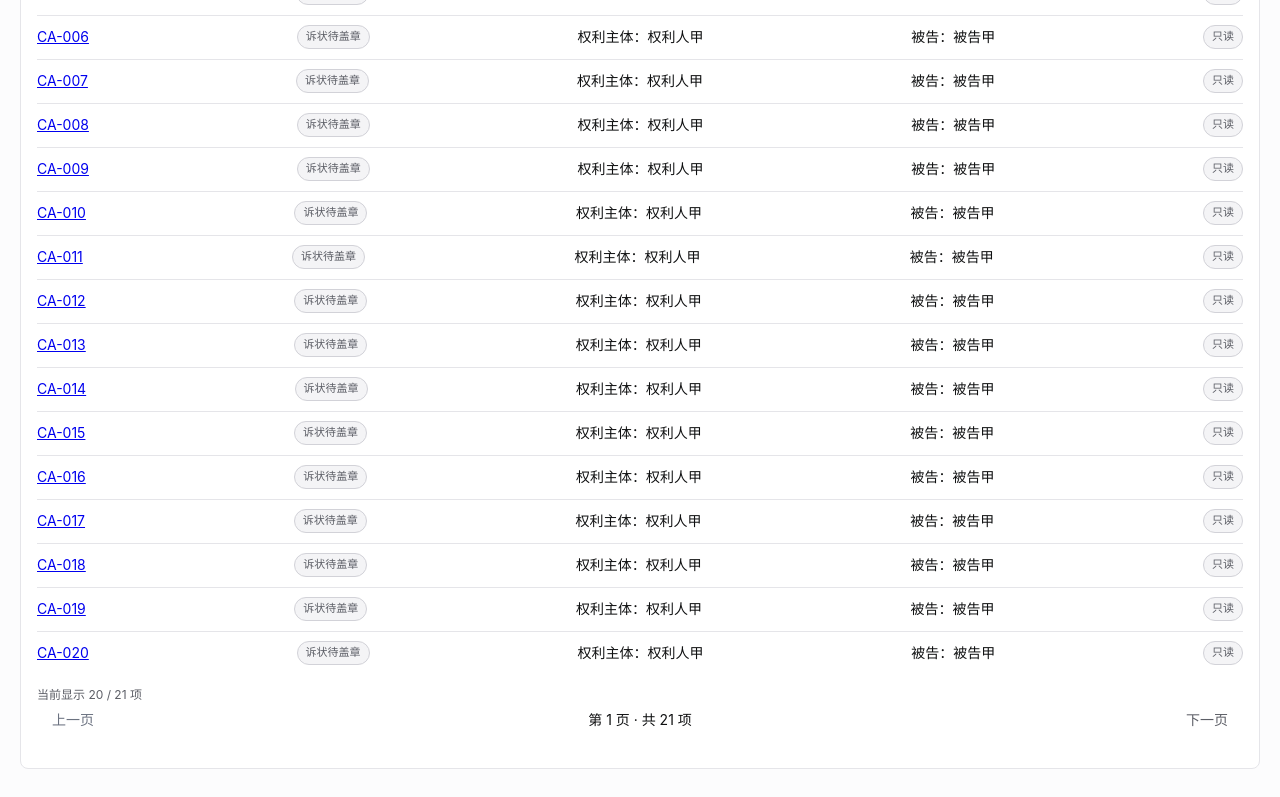
client case pages › paginates 21 cases with exact detail IDs and first/last page boundaries
(page scrolled)
Expected: the button "上一页" is disabled, [37,704,109,736]
Click the button "下一页". click: (1207, 720)
box: [1171,704,1243,736]
(page scrolled)
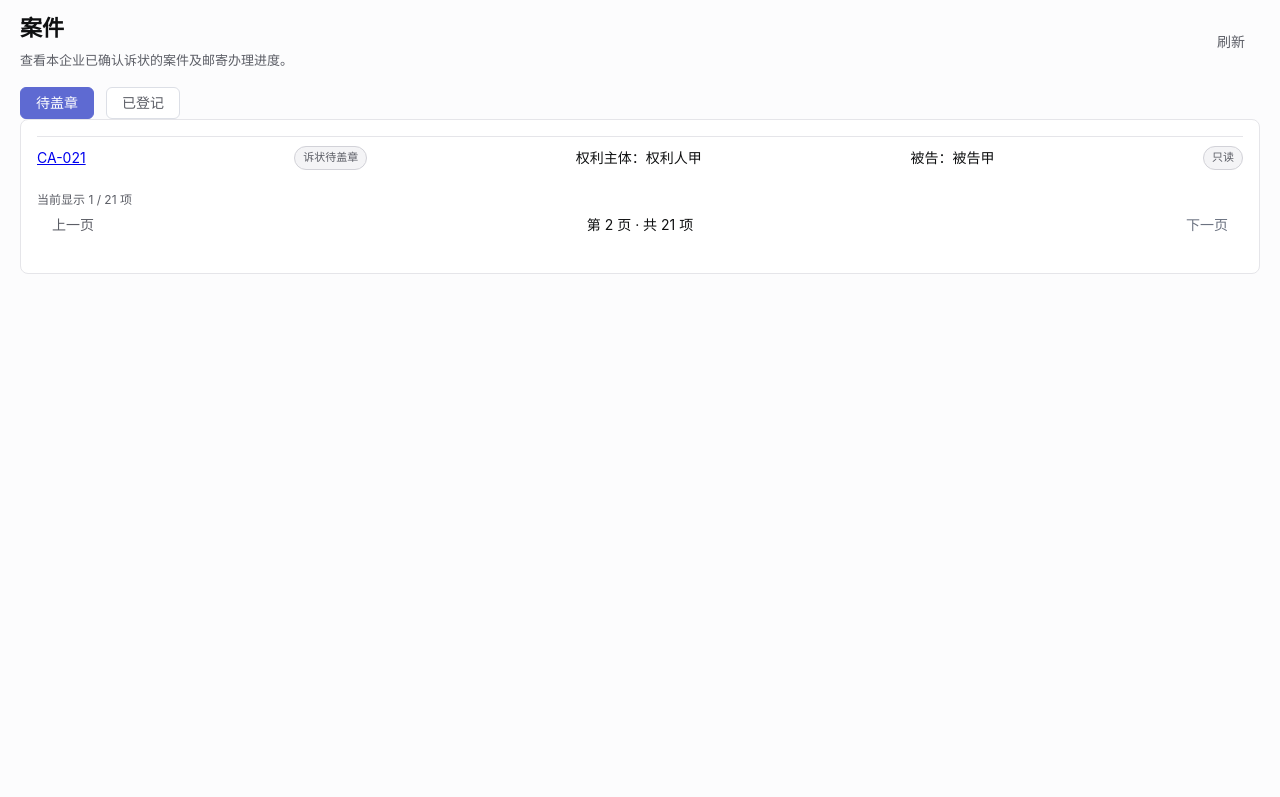
Expected: the number of list items is 1, [37,136,1243,180]
Expected: the text "第 2 页 · 共 21 项" is shown, [587,214,693,236]
Expected: the button "下一页" is disabled, [1171,209,1243,241]
Click the button "上一页". click: (73, 225)
box: [37,209,109,241]
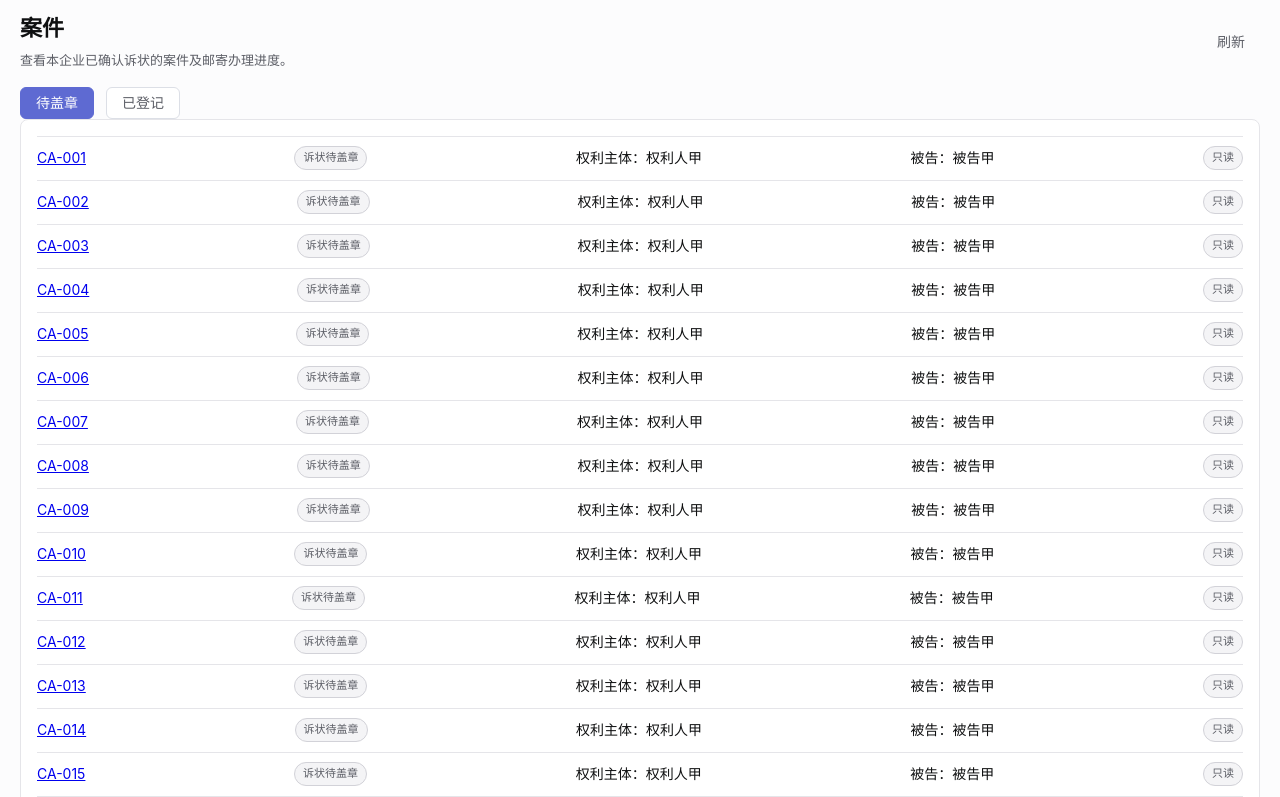
Expected: the number of list items is 20
